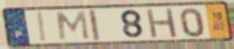0: (178, 6, 207, 39)
8: (119, 8, 145, 40)
H: (145, 7, 179, 40)
I: (87, 9, 102, 42), (37, 10, 49, 43)
M: (55, 10, 91, 42)
